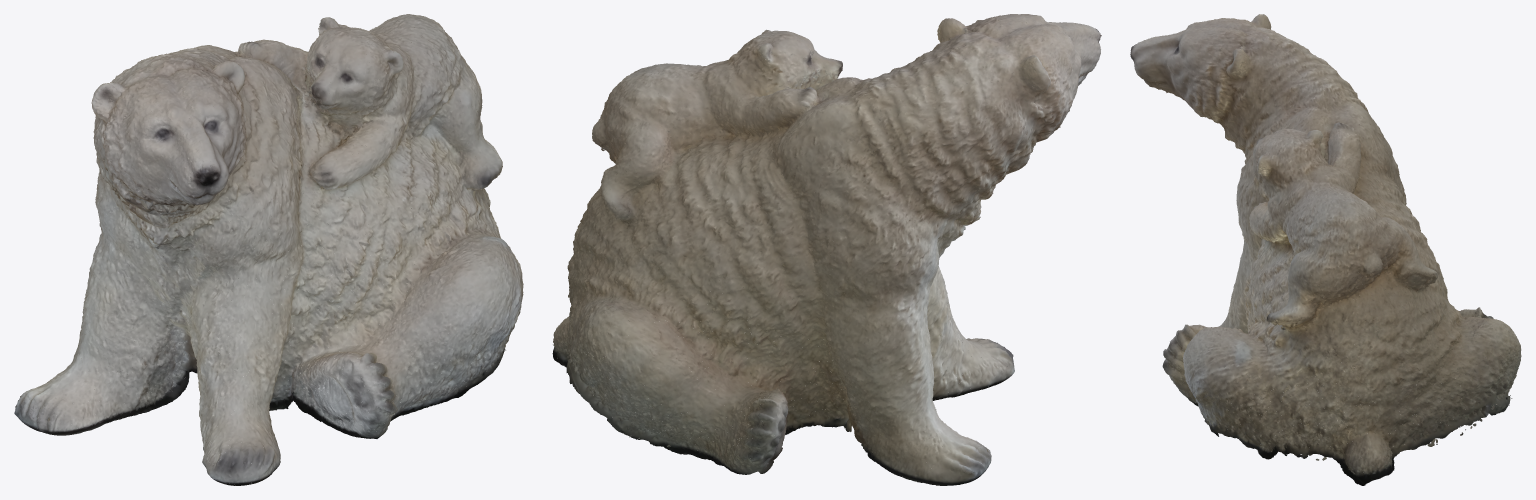
File: polar_bear.glb
3 views of the same model, side by side, from view 1: azimuth 30°, elevation 25°; view 2: azimuth 150°, elevation 25°; view 3: azimuth 270°, elevation 25° (orthographic). The views are drawn at different scales.
Parts seen in each view (by area): view 1: Model_material0_0; view 2: Model_material0_0; view 3: Model_material0_0.
Boxes of the visible parts, x1,y1,x2,y2 form: Model_material0_0: (14,14,523,485); Model_material0_0: (552,14,1101,485); Model_material0_0: (1130,14,1521,485).
Size of the model in its own units: 9.61 by 8.09 by 8.91.
